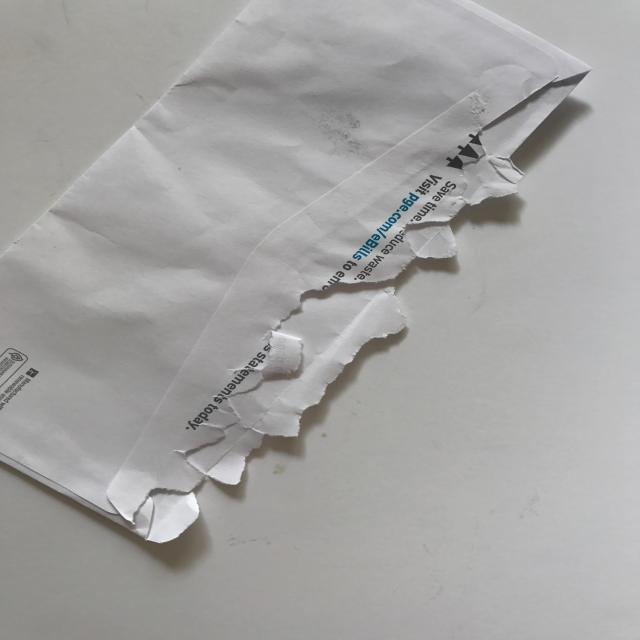paper: (1, 0, 593, 544)
